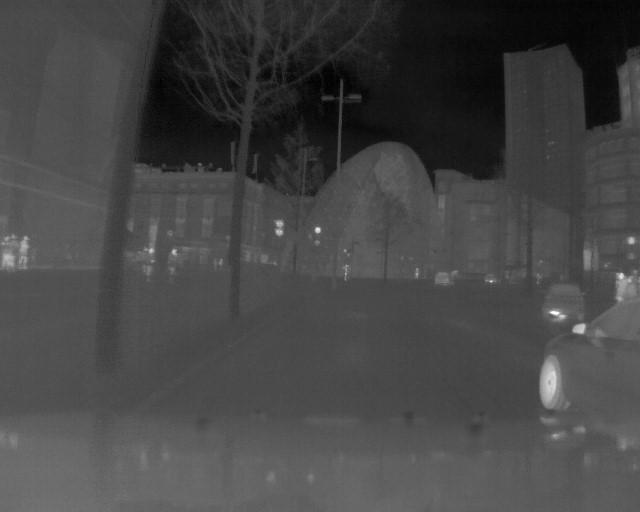car: (541, 300, 638, 454), (541, 279, 587, 322), (432, 267, 453, 288)
person: (612, 270, 627, 306), (10, 234, 21, 272), (167, 246, 178, 279), (626, 273, 639, 300), (2, 229, 10, 271), (146, 244, 155, 280), (20, 235, 28, 269), (343, 258, 351, 286)
